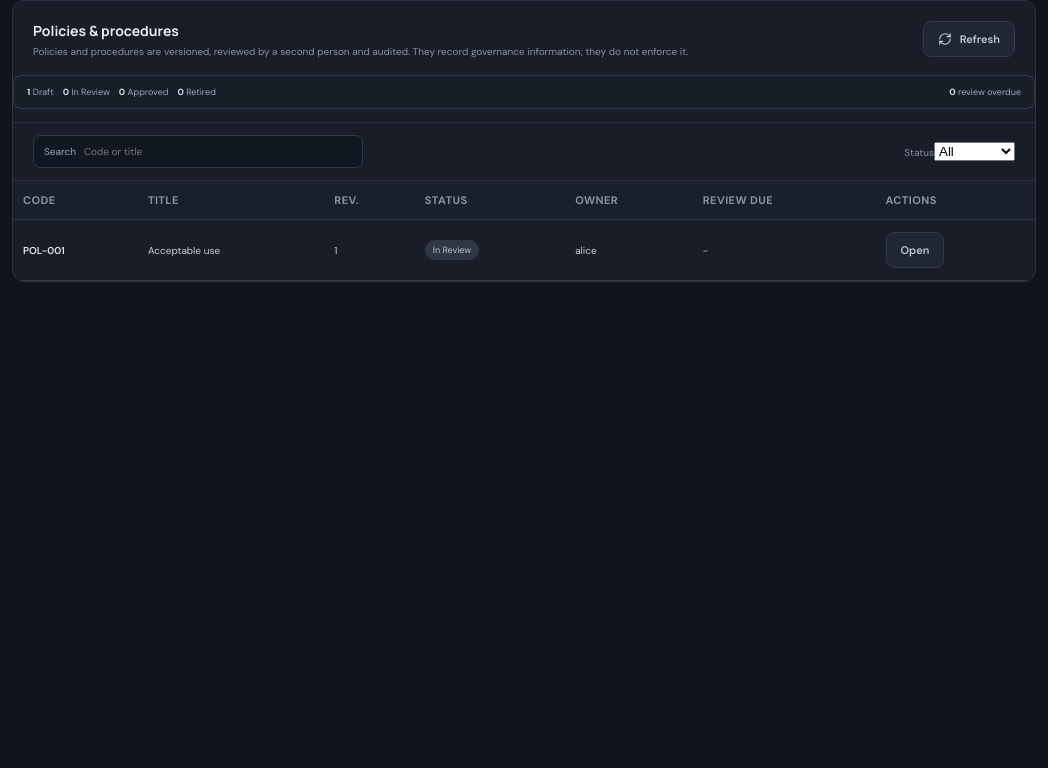
it: RegisterWorkspace › surfaces API refusals such as maker-checker without losing the record
Click the button with aria-label "Open POL-001". click: (915, 250)
box: [886,232,944,268]
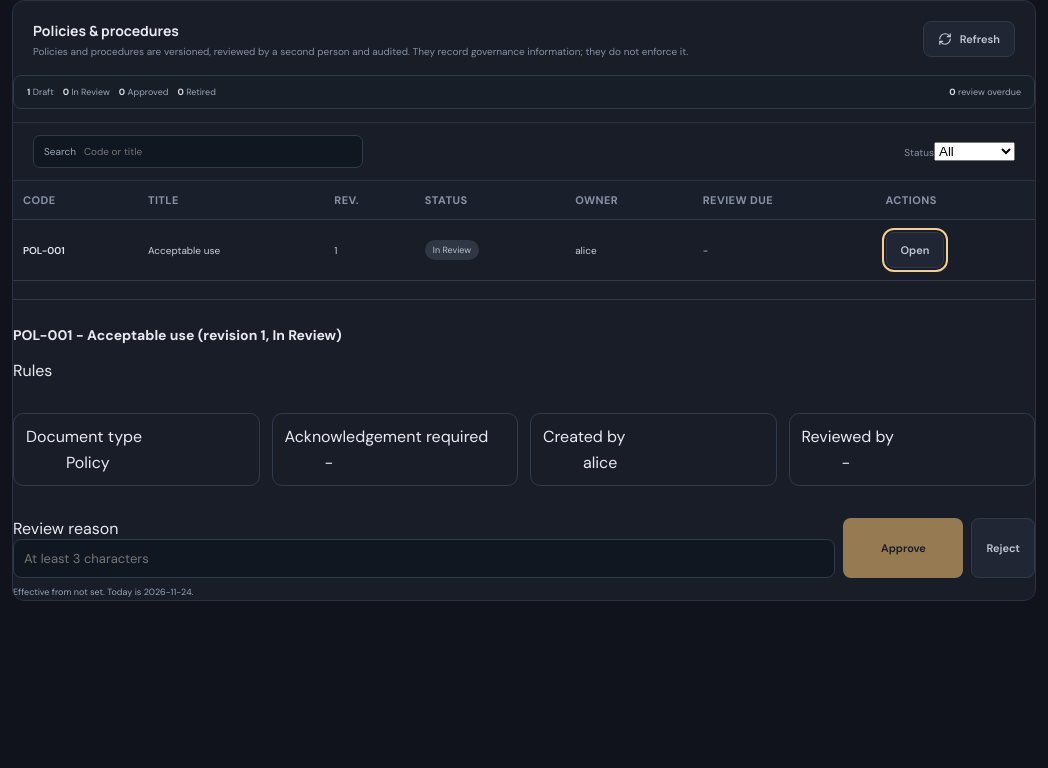
Type "self review" into the field labelled "Review reason". click: (424, 558)
box: [13,539,836,578]
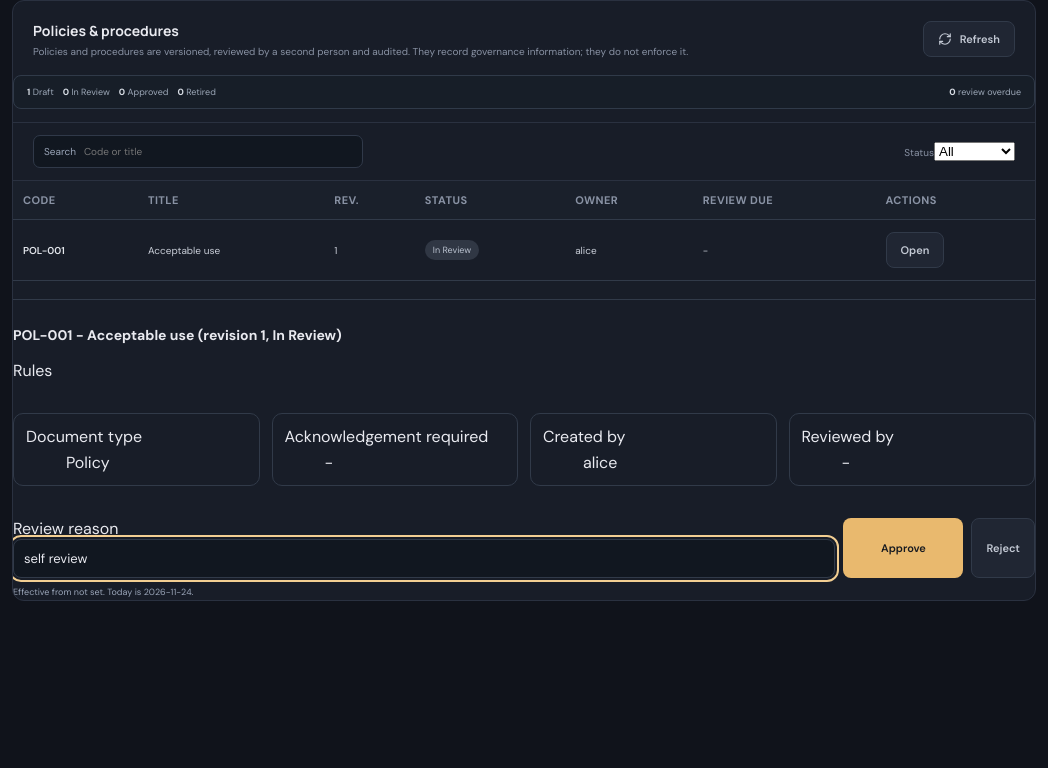
Click the button "Approve". click: (904, 548)
box: [844,518,964,578]
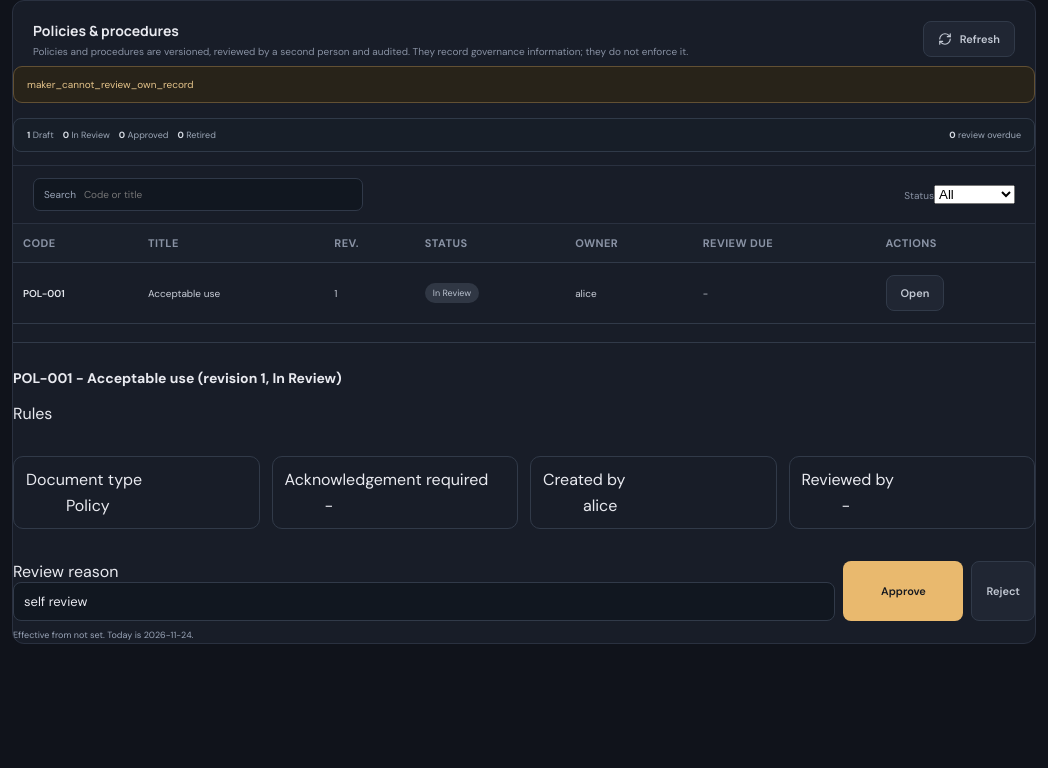
Expected: the text "POL-001" is shown, [23,286,65,300]
Expected: the message reads "maker_cannot_review_own_record", [27,78,194,91]
